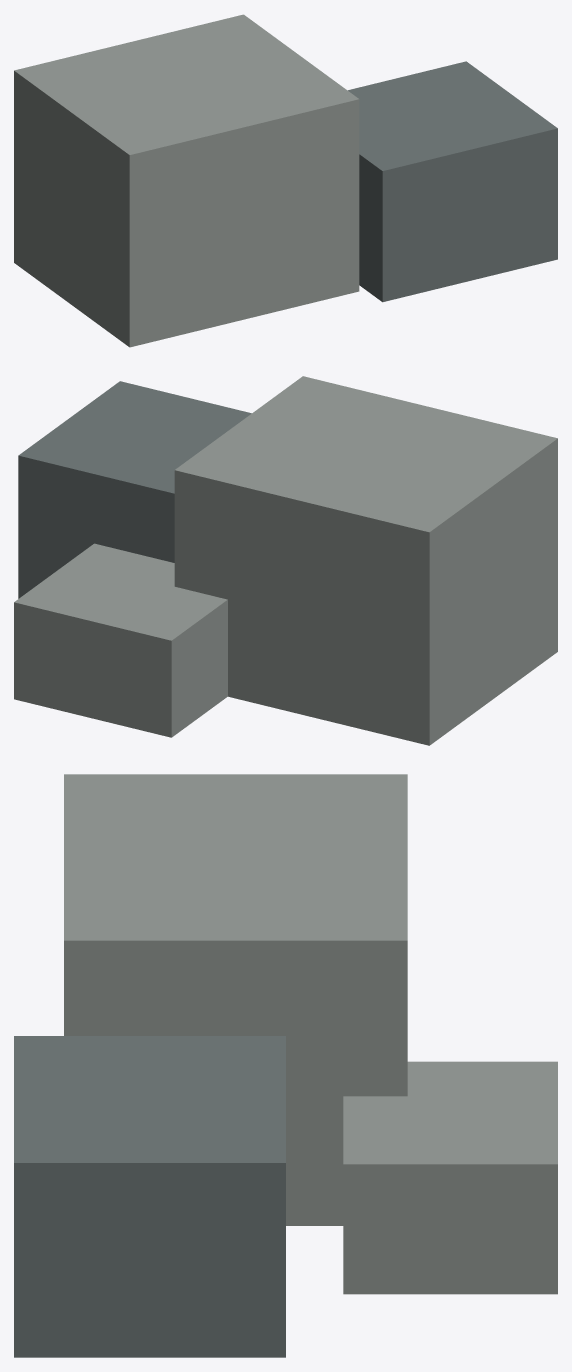
Rendered from rocks_cluster.glb.
3 views of the same model, one above another, from view 1: azimuth 30°, elevation 25°; view 2: azimuth 150°, elevation 25°; view 3: azimuth 270°, elevation 25° (orthographic). The views are drawn at different scales.
Parts seen in each view (by area): view 1: rocks_cluster; view 2: rocks_cluster; view 3: rocks_cluster.
Boxes of the visible parts, x1=… form: rocks_cluster: x1=14, y1=14, x2=557, y2=347; rocks_cluster: x1=14, y1=376, x2=557, y2=745; rocks_cluster: x1=14, y1=774, x2=557, y2=1357.
Size of the model in its own units: 0.985 by 0.44 by 0.76.
Materials: 2 (2 with a texture image).
